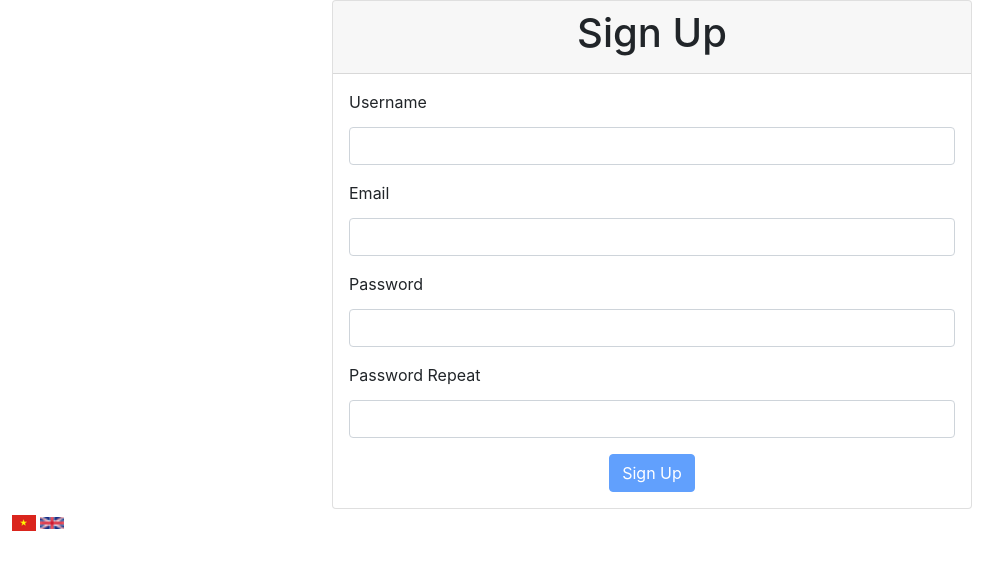
Test: Signup Page › Internationalization › Display all texts in Vietnamese after changing the language
The width and height of the screenshot is (989, 572).
Type "user1" into the field labelled "Username". click: (652, 146)
box: left=349, top=127, right=955, bottom=165
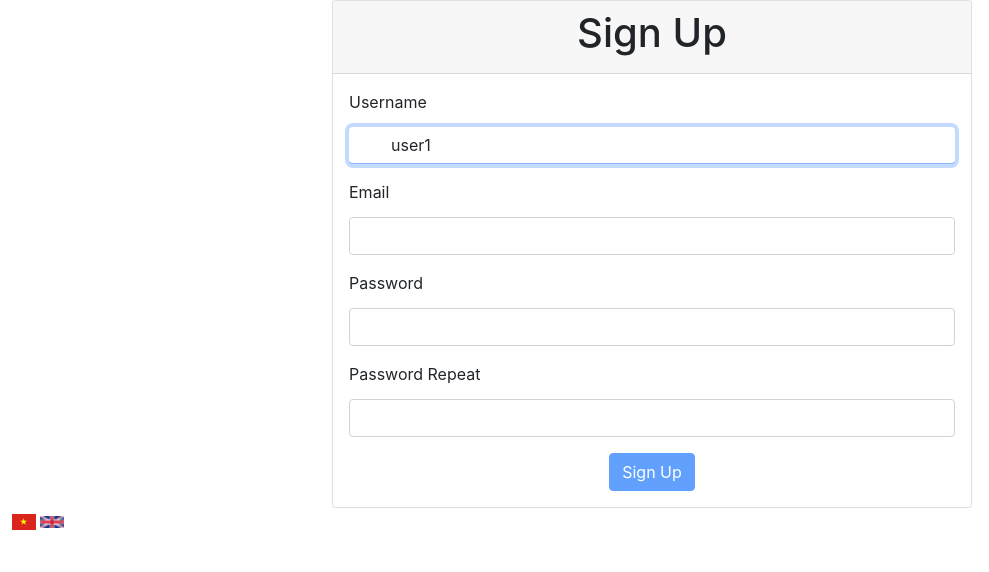
Type "user1@mail.com" into the field labelled "Email". click: (652, 236)
box: left=349, top=217, right=955, bottom=255
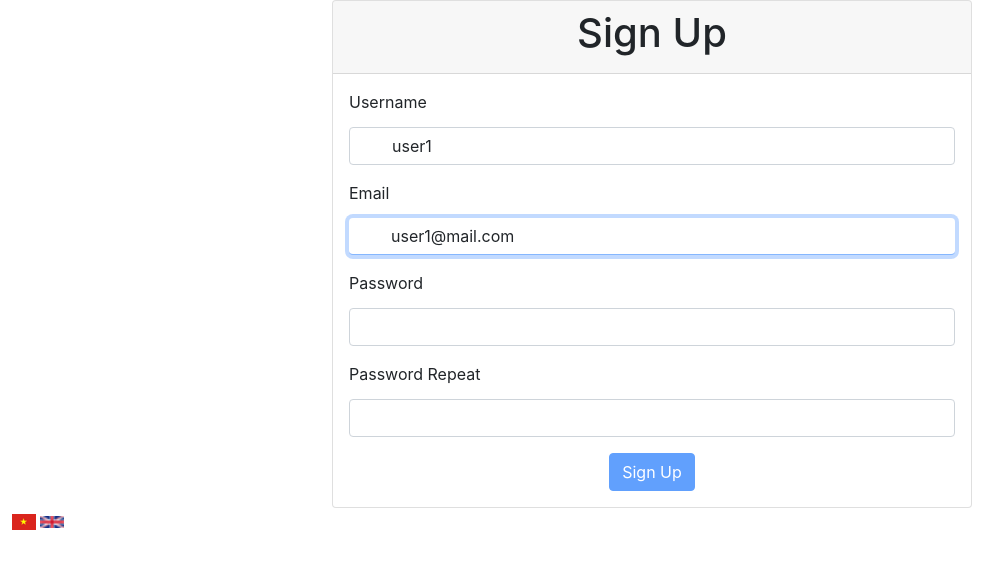
Type "Password" into the password field labelled "Password". click: (652, 327)
box: left=349, top=308, right=955, bottom=346
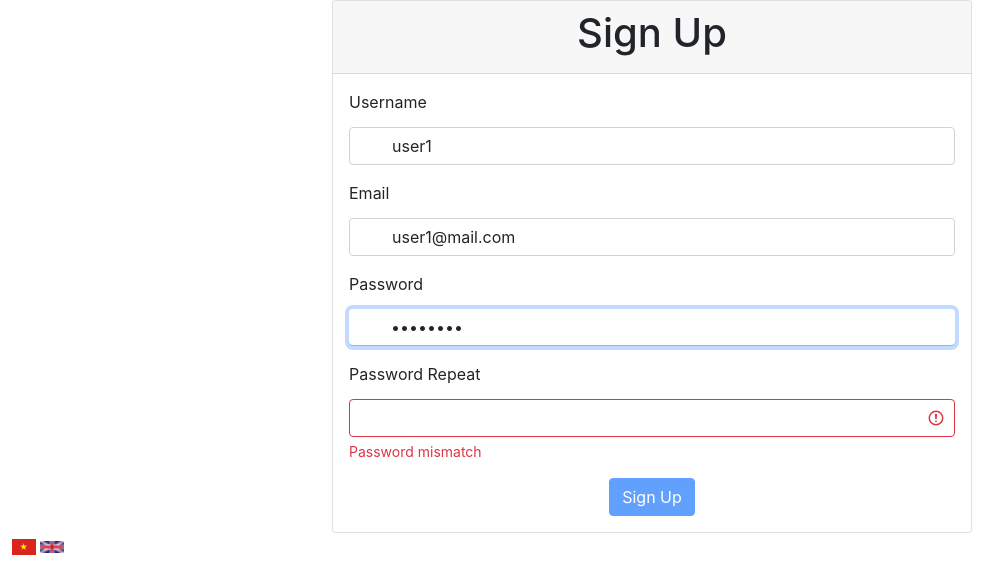
Type "Password" into the password field labelled "Password Repeat". click: (652, 418)
box: left=349, top=399, right=955, bottom=437
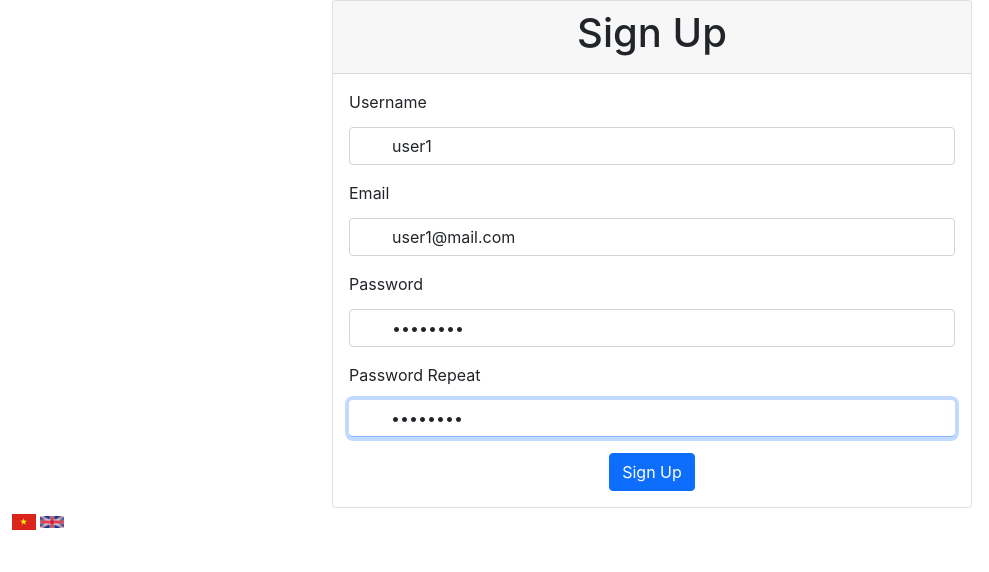
Click the picture titled "Tiếng Việt". click: (24, 522)
box: left=12, top=514, right=36, bottom=530
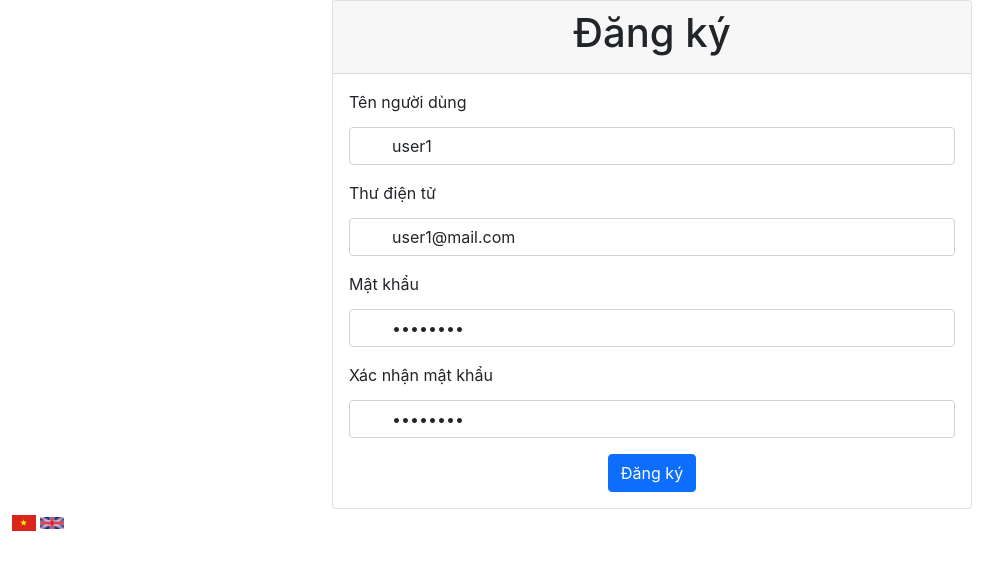
Expected: the heading "Đăng ký" is shown, left=573, top=8, right=731, bottom=57
Expected: the button "Đăng ký" is shown, left=608, top=454, right=696, bottom=492
